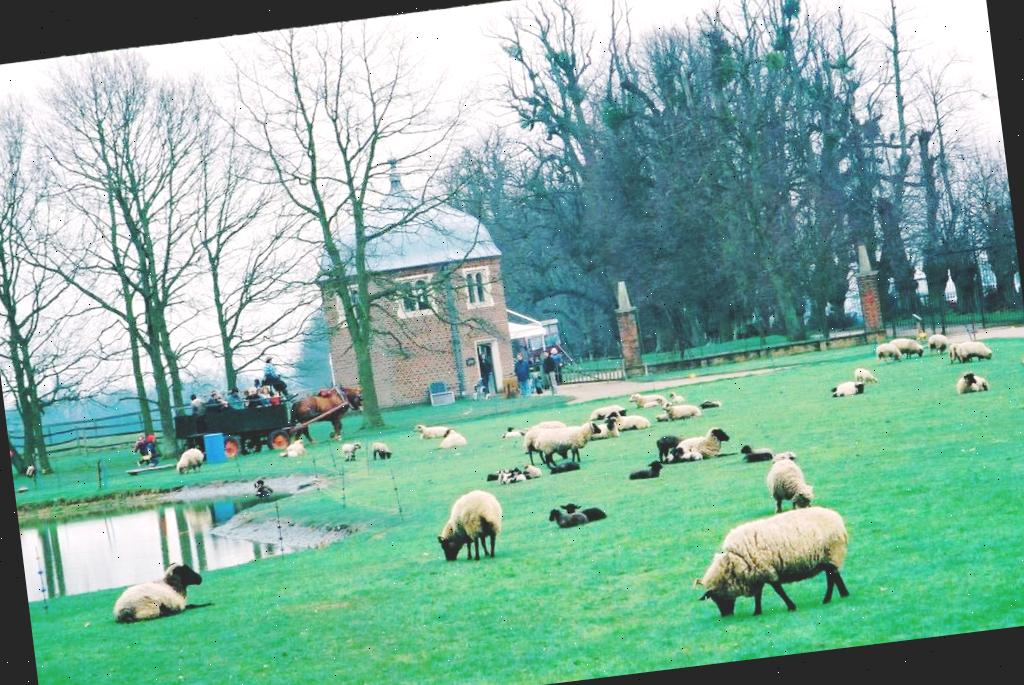Sheep: (684, 500, 858, 624), (822, 321, 1024, 407), (106, 553, 218, 623), (428, 490, 504, 563), (522, 417, 604, 470), (761, 453, 819, 511), (668, 424, 732, 462), (562, 496, 610, 528), (544, 500, 590, 532), (656, 399, 702, 422), (173, 445, 206, 474), (628, 389, 668, 410), (412, 420, 453, 440), (587, 402, 627, 422), (612, 411, 650, 432), (874, 341, 902, 364), (926, 331, 952, 355), (853, 364, 878, 385), (368, 441, 395, 460), (340, 440, 364, 460)
